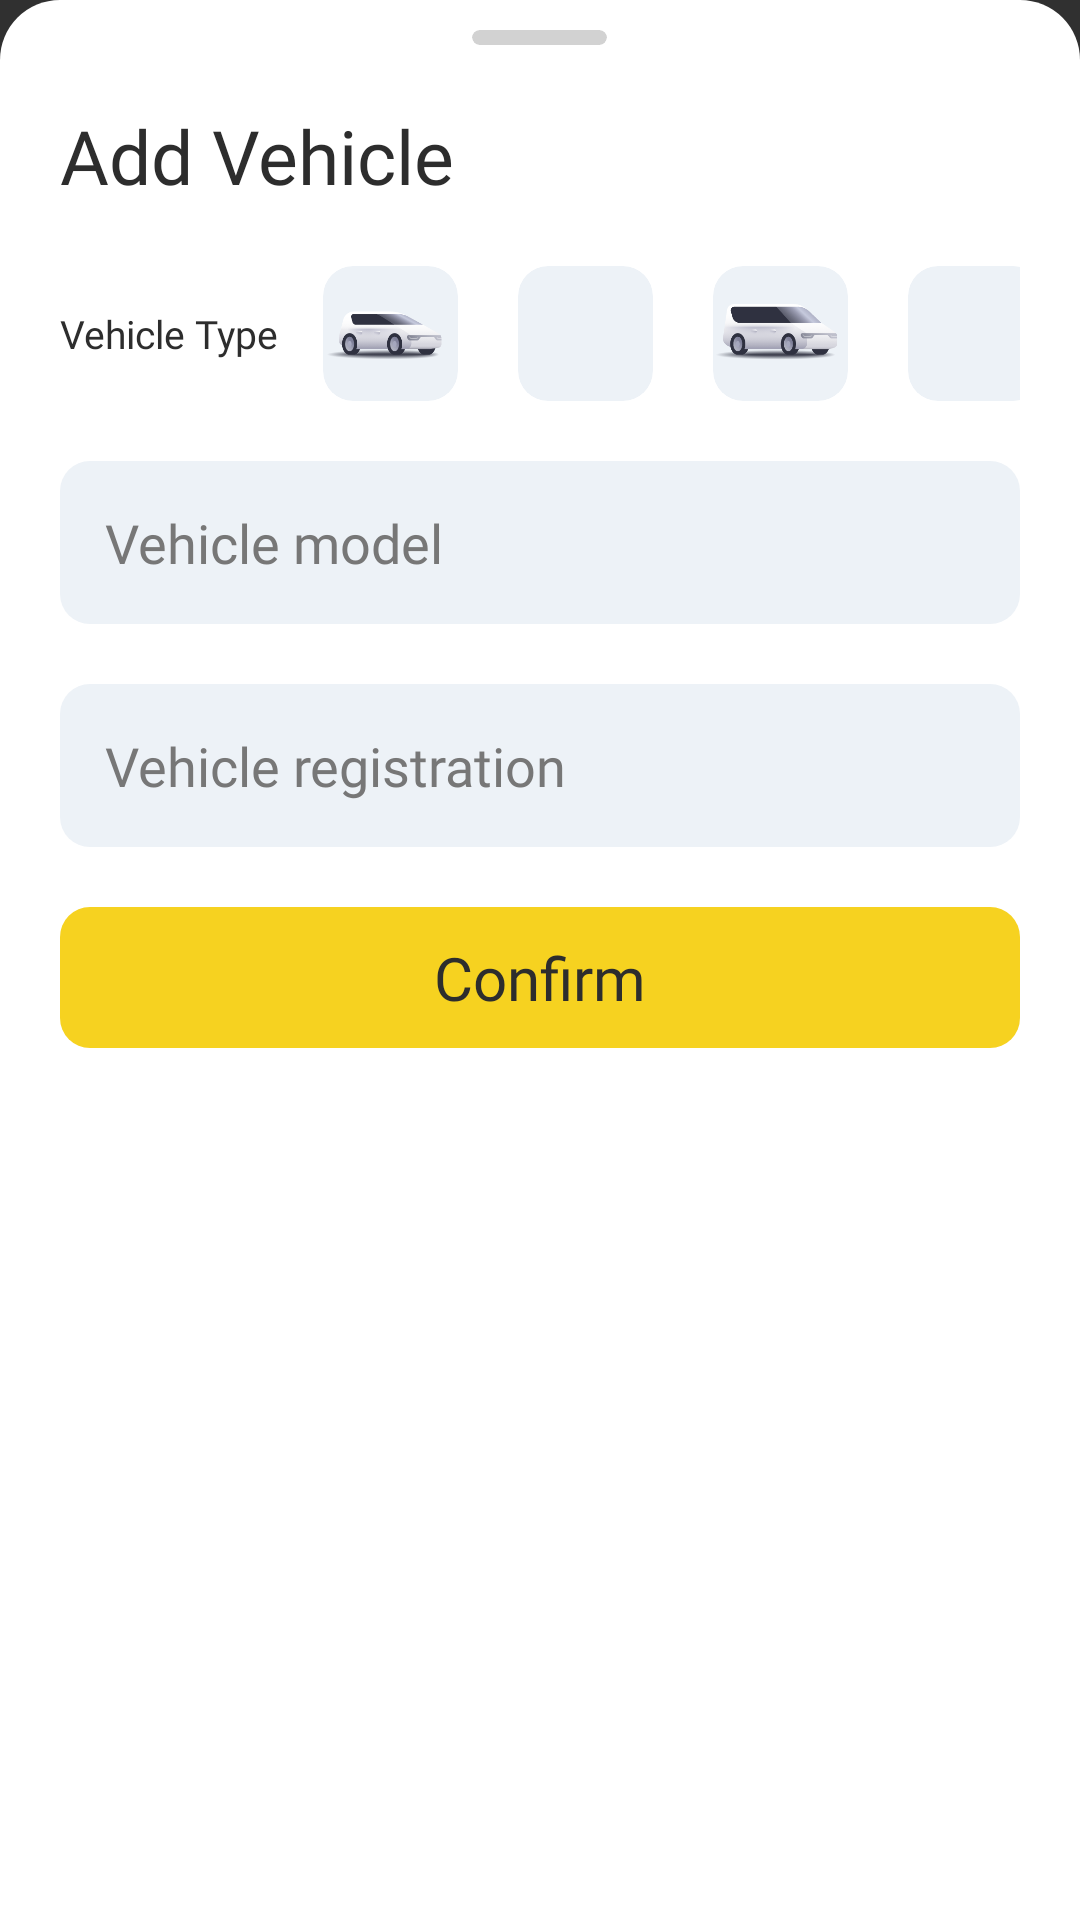

Where icons sit on this 1080x1920 app screen, as [x1=x1, y1=y1, x2=x2, y2=y2]:
categoryminivan: [x1=717, y1=306, x2=837, y2=359]
